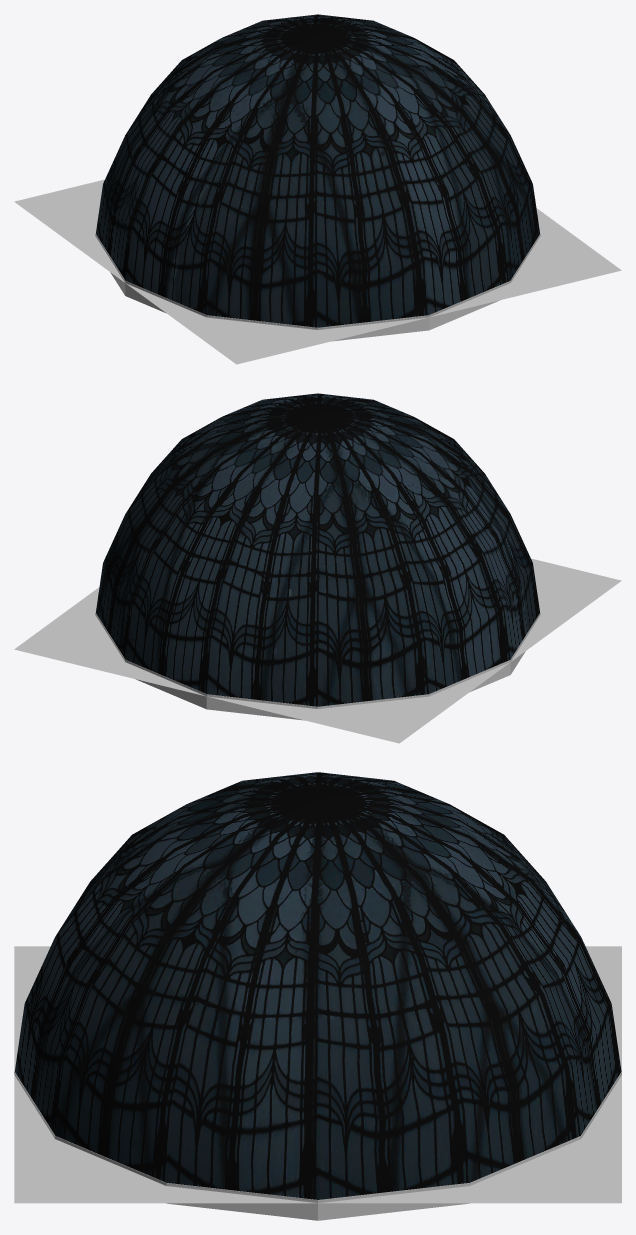
The model's file is glass_dome_roman.dae.
3 views of the same model, one above another, from view 1: azimuth 30°, elevation 25°; view 2: azimuth 150°, elevation 25°; view 3: azimuth 270°, elevation 25° (orthographic). The views are drawn at different scales.
Parts seen in each view (by area): view 1: polySurface3, polySurface4, polySurface5; view 2: polySurface3, polySurface4, polySurface5; view 3: polySurface3, polySurface4, polySurface5.
Part boxes in pixels (box(x1,y1,x2,y2)): polySurface3: box(96, 14, 539, 327); polySurface4: box(14, 179, 621, 364); polySurface5: box(95, 233, 540, 341); polySurface3: box(96, 393, 539, 706); polySurface4: box(14, 558, 621, 743); polySurface5: box(95, 612, 540, 720); polySurface3: box(14, 772, 621, 1199); polySurface4: box(14, 946, 621, 1203); polySurface5: box(14, 1071, 621, 1220).
Bounding box in the file's own units: 800 × 426 × 800.
